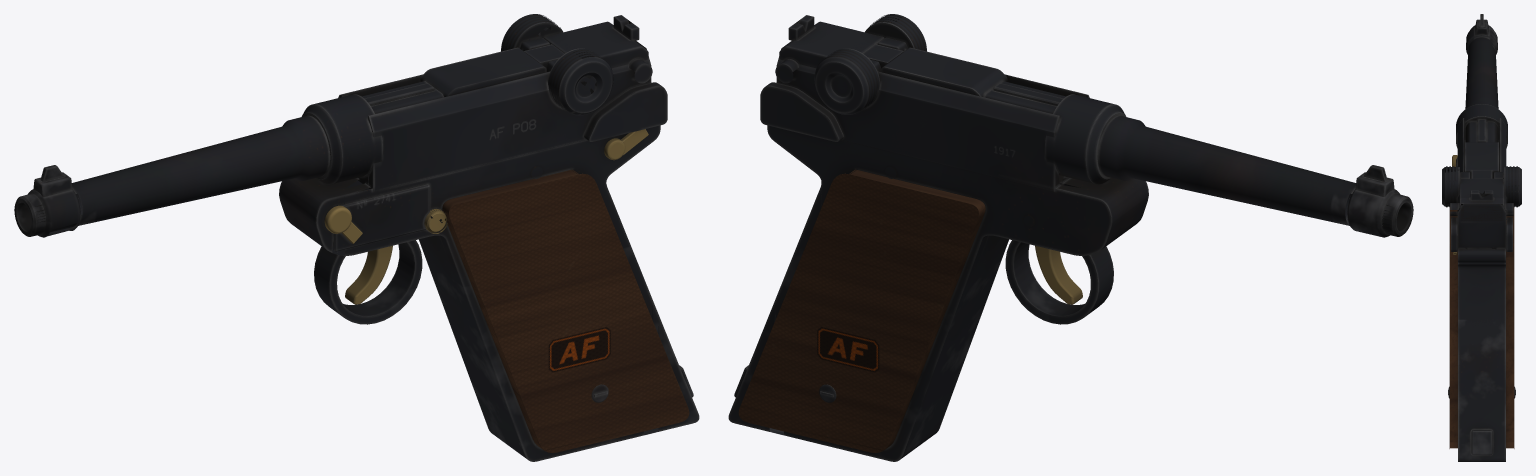
Rendered from afp08_lod1.fbx.
3 renders of one model, left to right at view 1: azimuth 30°, elevation 25°; view 2: azimuth 150°, elevation 25°; view 3: azimuth 270°, elevation 25°, orthographic. The views are drawn at different scales.
Parts seen in each view (by area): view 1: P08_LOD_1; view 2: P08_LOD_1; view 3: P08_LOD_1.
Boxes of the visible parts, box(x1,y1,x2,y2) form: P08_LOD_1: box(14, 14, 699, 461); P08_LOD_1: box(728, 14, 1413, 461); P08_LOD_1: box(1442, 14, 1521, 461).
Bounding box in the file's own units: 23.48 × 3.84 × 13.64.
